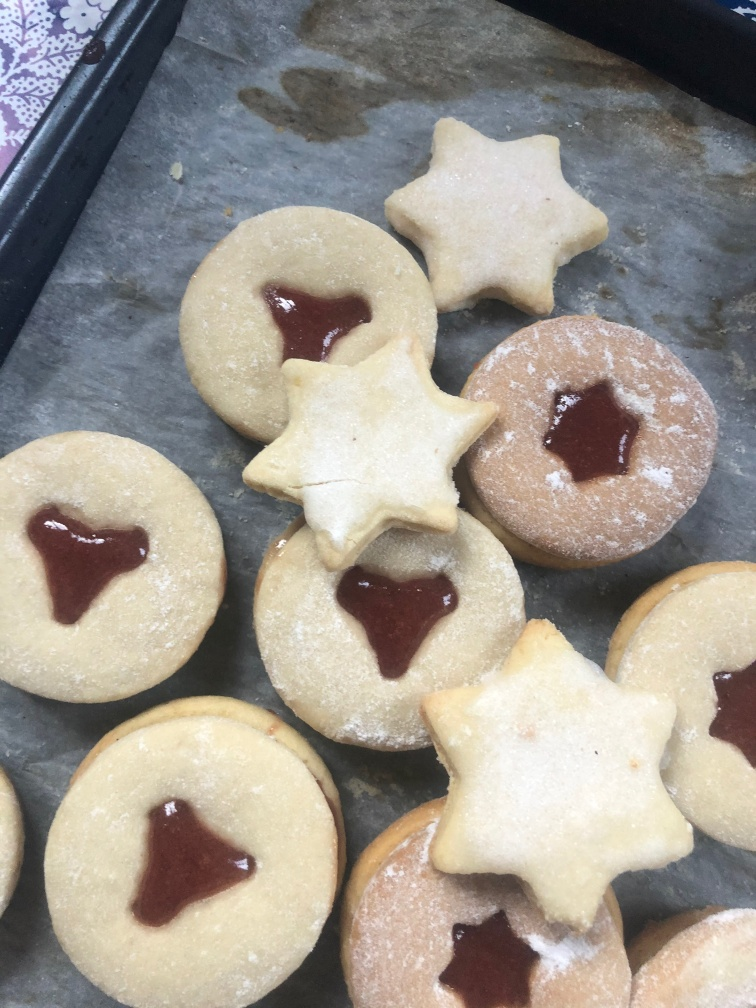christmas shortbread with jam: (49, 695, 341, 997), (472, 312, 728, 570), (1, 429, 232, 701), (183, 204, 442, 429), (350, 827, 629, 1007), (641, 560, 756, 846)
star: (419, 618, 690, 923), (244, 338, 495, 560), (388, 112, 612, 318)
